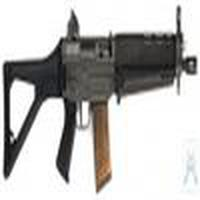gun: (2, 29, 199, 182)
